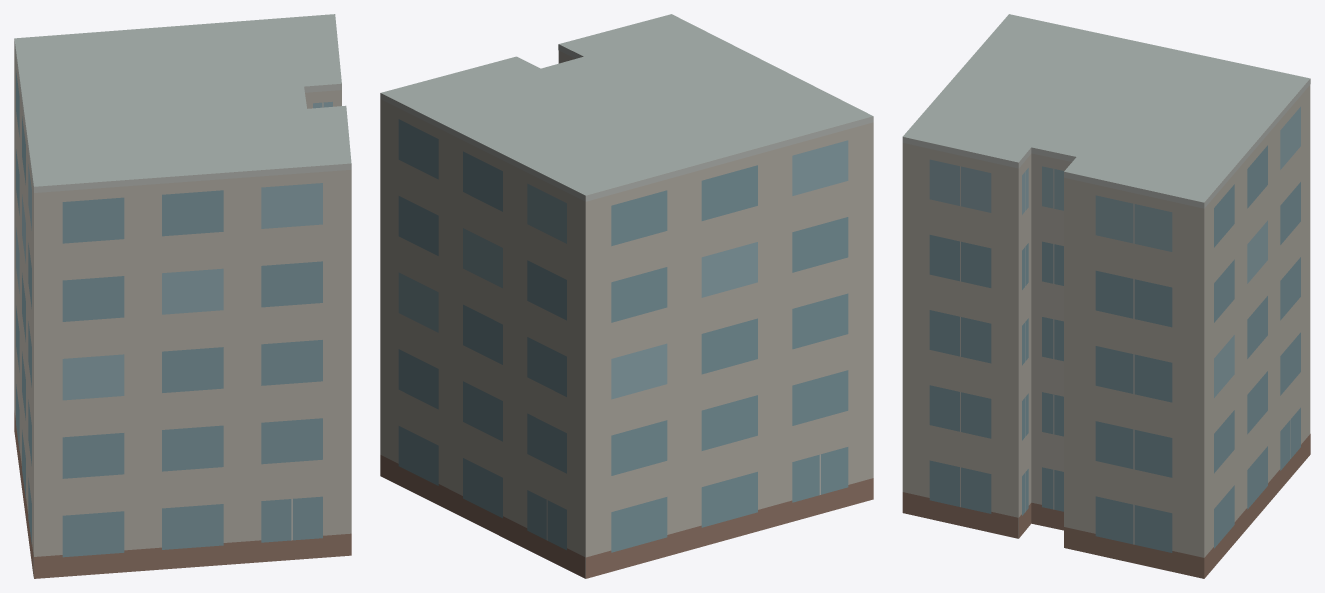
File: survey-upis-32886051.glb
3 views of the same model, side by side, from view 1: azimuth 30°, elevation 25°; view 2: azimuth 150°, elevation 25°; view 3: azimuth 270°, elevation 25° (orthographic). The views are drawn at different scales.
Visible parts, largest first — view 1: survey-upis-32886051.tmp; view 2: survey-upis-32886051.tmp; view 3: survey-upis-32886051.tmp.
Boxes of the visible parts, x1,y1,x2,y2 form: survey-upis-32886051.tmp: [14, 14, 351, 578]; survey-upis-32886051.tmp: [380, 14, 873, 578]; survey-upis-32886051.tmp: [902, 14, 1310, 578].
Bounding box in the file's own units: 16.41 × 15.25 × 14.99.
